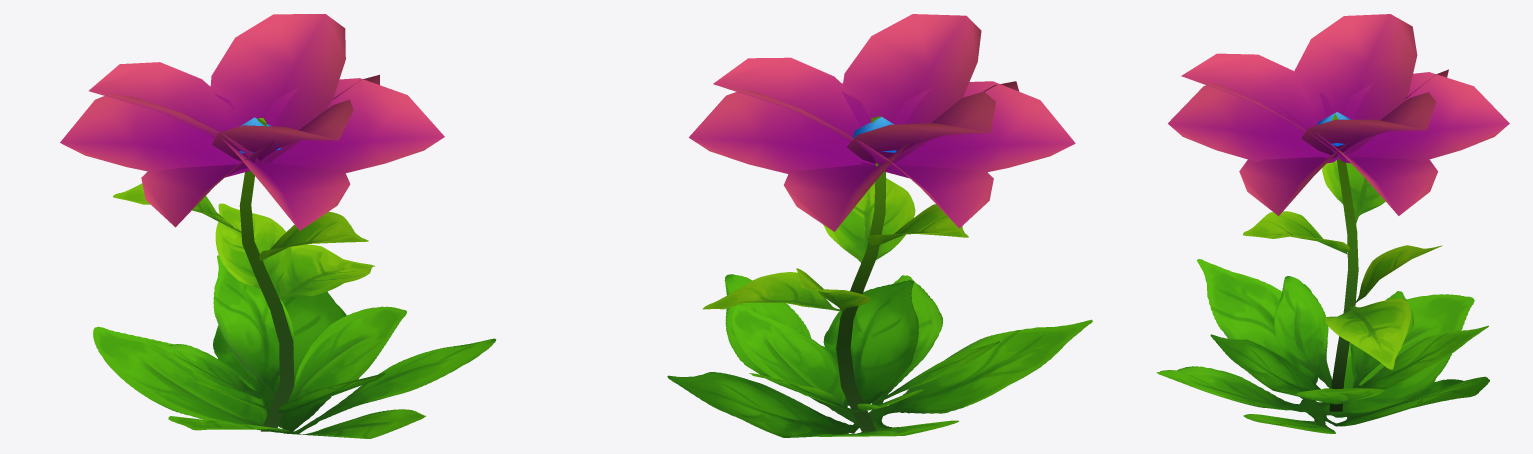
The model's file is RedFlower.FBX.
The picture shows the model from 3 angles, left to right: view 1: azimuth 30°, elevation 25°; view 2: azimuth 150°, elevation 25°; view 3: azimuth 270°, elevation 25°; orthographic projection. The views are drawn at different scales.
Parts seen in each view (by area): view 1: RedFlower; view 2: RedFlower; view 3: RedFlower.
Boxes of the visible parts, x1,y1,x2,y2 form: RedFlower: (60,14,496,438); RedFlower: (667,14,1092,437); RedFlower: (1156,14,1509,433).
Size of the model in its own units: 70.32 by 72.47 by 70.32.
